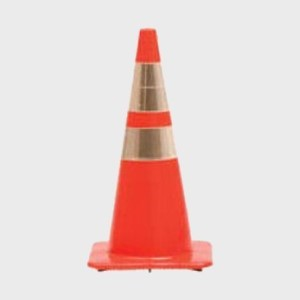traffic cone: (88, 28, 213, 268)
